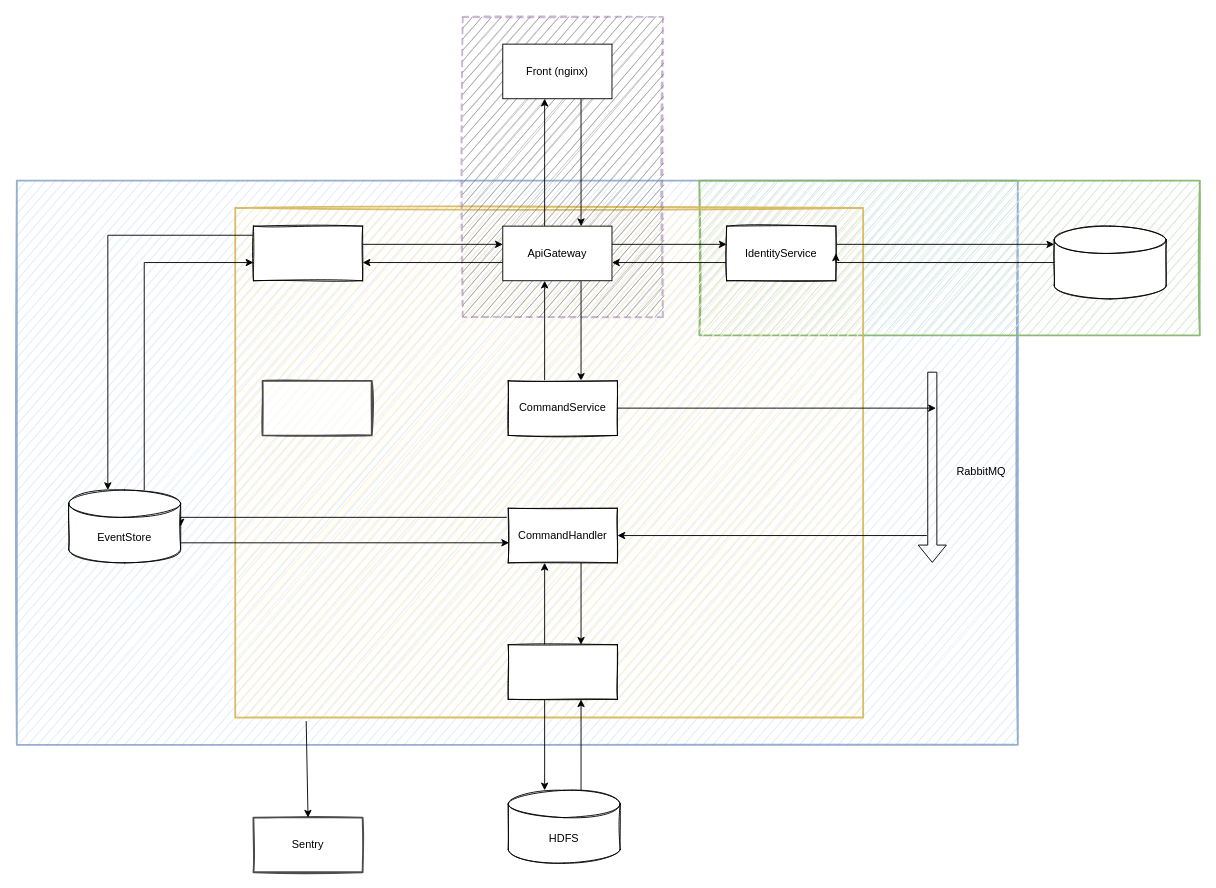
Some shapes in this 1216 by 888 pixel diagram are drawn without their labels. The shapes that lost their labels are listed below. From the top down, each one's centre as x and y in pixels, then its label:
the point at 308,253: QueryService
the point at 1109,262: Postgres
the point at 316,407: Jaeger
the point at 562,671: AnalysisService*
